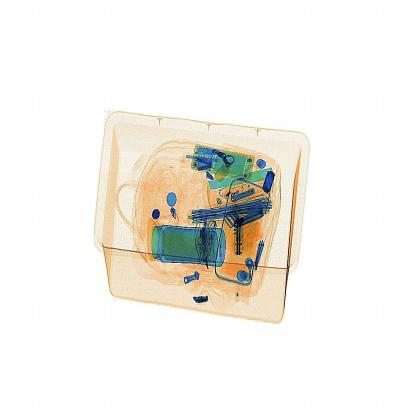scissors: (231, 210, 257, 269)
